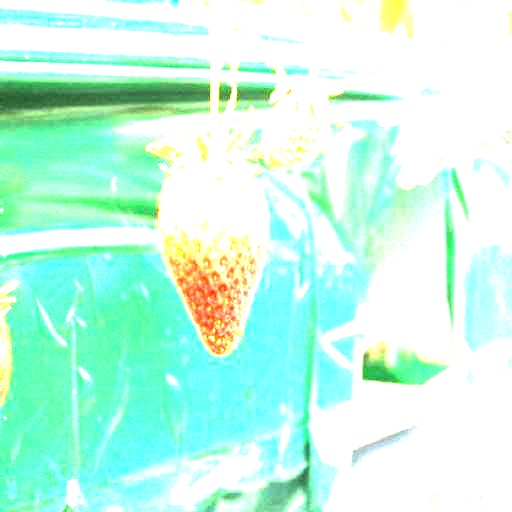Gray Mold: (264, 73, 328, 169)
